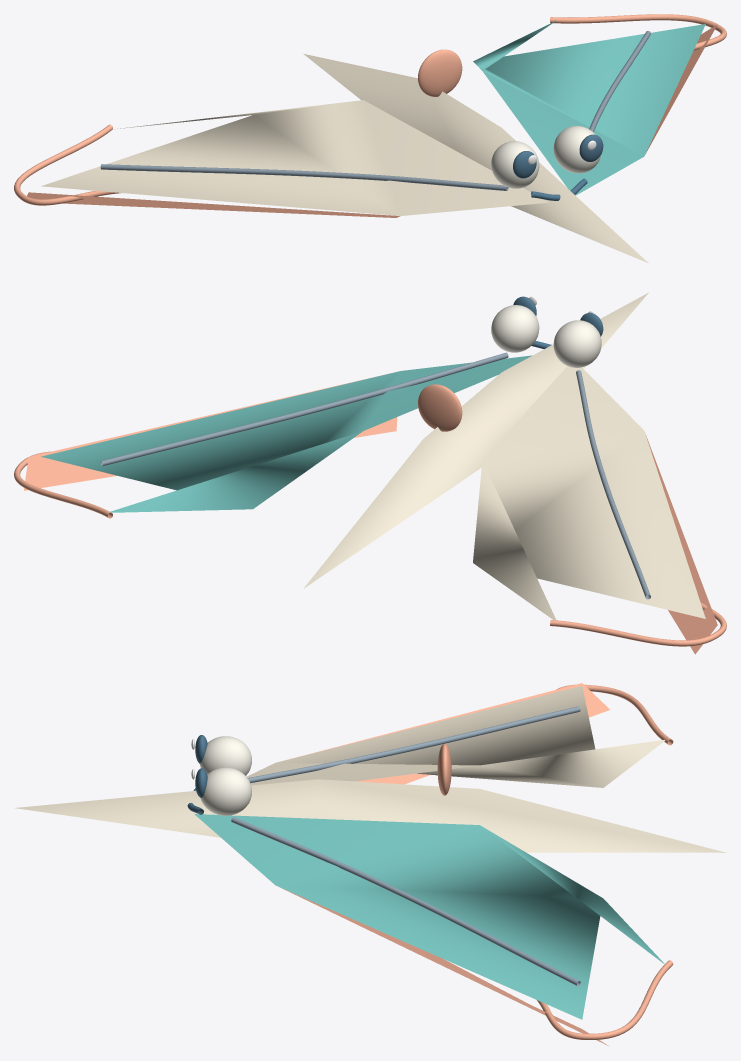
The model's file is E02-paper-plane.glb.
3 renders of one model, top to bottom at view 1: azimuth 30°, elevation 25°; view 2: azimuth 150°, elevation 25°; view 3: azimuth 270°, elevation 25°, orthographic. The views are drawn at different scales.
Visible parts, largest first — view 1: E02 left folded outer wing, E02 right folded outer wing, E02 double ridge fuselage, E02 -1 embossed crease 1, E02 -1 wing return lip, E02 spring ring logo, E02 1 wing-tip piping, E02 -1 wing-tip piping, E02 1 eyeball, E02 -1 eyeball, E02 1 wing return lip, E02 1 embossed crease 1 (+2 smaller); view 2: E02 left folded outer wing, E02 right folded outer wing, E02 double ridge fuselage, E02 1 wing return lip, E02 1 embossed crease 1, E02 -1 wing return lip, E02 -1 eyeball, E02 1 eyeball, E02 spring ring logo, E02 -1 embossed crease 1, E02 -1 wing-tip piping, E02 1 wing-tip piping; view 3: E02 right folded outer wing, E02 double ridge fuselage, E02 left folded outer wing, E02 1 embossed crease 1, E02 -1 embossed crease 1, E02 1 eyeball, E02 1 wing return lip, E02 -1 eyeball, E02 -1 wing return lip, E02 1 wing-tip piping, E02 -1 wing-tip piping, E02 spring ring logo.
Part boxes in pixels (x1,y1,x2,y2): E02 left folded outer wing: [41, 100, 549, 215]; E02 right folded outer wing: [473, 20, 705, 195]; E02 double ridge fuselage: [303, 53, 648, 263]; E02 -1 embossed crease 1: [100, 164, 508, 190]; E02 -1 wing return lip: [27, 192, 400, 217]; E02 spring ring logo: [418, 49, 462, 96]; E02 1 wing-tip piping: [550, 14, 726, 50]; E02 -1 wing-tip piping: [14, 124, 120, 205]; E02 1 eyeball: [553, 126, 600, 173]; E02 -1 eyeball: [491, 141, 539, 188]; E02 1 wing return lip: [645, 24, 717, 154]; E02 1 embossed crease 1: [589, 31, 650, 132]; E02 left folded outer wing: [473, 366, 705, 620]; E02 right folded outer wing: [41, 355, 532, 512]; E02 double ridge fuselage: [303, 292, 648, 588]; E02 1 wing return lip: [24, 374, 397, 490]; E02 1 embossed crease 1: [100, 352, 508, 466]; E02 -1 wing return lip: [646, 435, 717, 654]; E02 -1 eyeball: [553, 320, 601, 367]; E02 1 eyeball: [491, 305, 539, 352]; E02 spring ring logo: [418, 384, 462, 431]; E02 -1 embossed crease 1: [576, 370, 650, 599]; E02 -1 wing-tip piping: [550, 602, 726, 646]; E02 1 wing-tip piping: [14, 451, 112, 518]; E02 right folded outer wing: [194, 814, 664, 1019]; E02 double ridge fuselage: [15, 779, 726, 852]; E02 left folded outer wing: [246, 686, 665, 787]; E02 1 embossed crease 1: [231, 817, 580, 986]; E02 -1 embossed crease 1: [247, 706, 580, 783]; E02 1 eyeball: [200, 767, 251, 815]; E02 1 wing return lip: [280, 887, 609, 1046]; E02 -1 eyeball: [200, 736, 251, 775]; E02 -1 wing return lip: [292, 683, 609, 784]; E02 1 wing-tip piping: [537, 960, 673, 1039]; E02 -1 wing-tip piping: [556, 684, 673, 745]; E02 spring ring logo: [437, 743, 451, 795].
Size of the model in its own units: 2.36 by 0.414 by 2.02.
